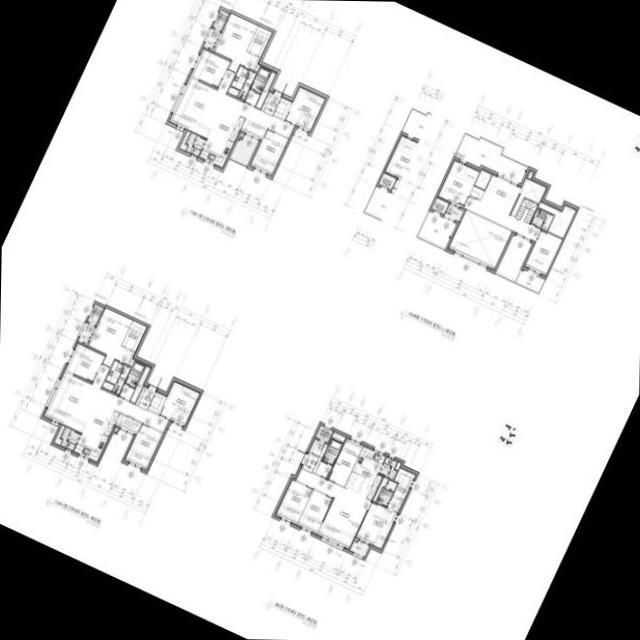background: (0, 0, 640, 640)
space_balconi: (455, 136, 527, 183), (418, 211, 456, 248), (229, 136, 257, 165), (516, 269, 543, 291), (60, 427, 80, 450), (185, 133, 205, 156), (379, 457, 396, 480), (77, 322, 94, 344), (203, 28, 220, 50), (349, 540, 369, 557), (444, 204, 463, 221)
space_bedroom: (87, 308, 134, 367), (213, 13, 259, 73), (355, 496, 402, 548), (438, 161, 479, 207), (159, 381, 200, 426), (284, 87, 325, 131), (250, 129, 288, 175), (125, 424, 163, 469), (524, 230, 562, 275), (276, 480, 312, 524), (65, 343, 104, 382), (297, 490, 332, 533), (190, 49, 229, 87)
space_dressroom: (247, 26, 272, 57), (121, 321, 146, 351), (393, 468, 414, 500)
space_front: (135, 386, 155, 410), (261, 92, 280, 116), (300, 452, 321, 473)
space_kitchen: (73, 402, 119, 461), (199, 108, 244, 167), (344, 447, 385, 500)
space_living_room: (44, 364, 169, 433), (169, 70, 294, 138), (295, 468, 370, 548), (463, 175, 540, 241)
space_other: (448, 210, 511, 269), (495, 235, 531, 281), (328, 439, 362, 486), (538, 202, 575, 238), (511, 179, 546, 216), (255, 72, 276, 109), (130, 366, 150, 403), (514, 197, 538, 224), (240, 118, 266, 140), (115, 413, 140, 434), (148, 391, 166, 414), (273, 98, 291, 119), (373, 477, 388, 501), (309, 439, 327, 457), (474, 170, 491, 189), (118, 384, 134, 400), (315, 462, 331, 478), (178, 130, 190, 151), (244, 90, 259, 106), (469, 186, 483, 200), (54, 425, 64, 444), (331, 432, 345, 442), (394, 462, 400, 470), (254, 64, 260, 72), (129, 358, 134, 366), (527, 171, 532, 179), (239, 133, 243, 137), (114, 428, 117, 432)
space_outdoor_room: (87, 304, 103, 325), (212, 10, 228, 30), (315, 425, 332, 442), (431, 198, 448, 214)
space_toilet: (102, 360, 130, 394), (227, 66, 255, 99), (124, 361, 145, 388), (376, 480, 397, 507), (322, 439, 342, 465), (250, 67, 270, 93), (530, 209, 553, 230)
